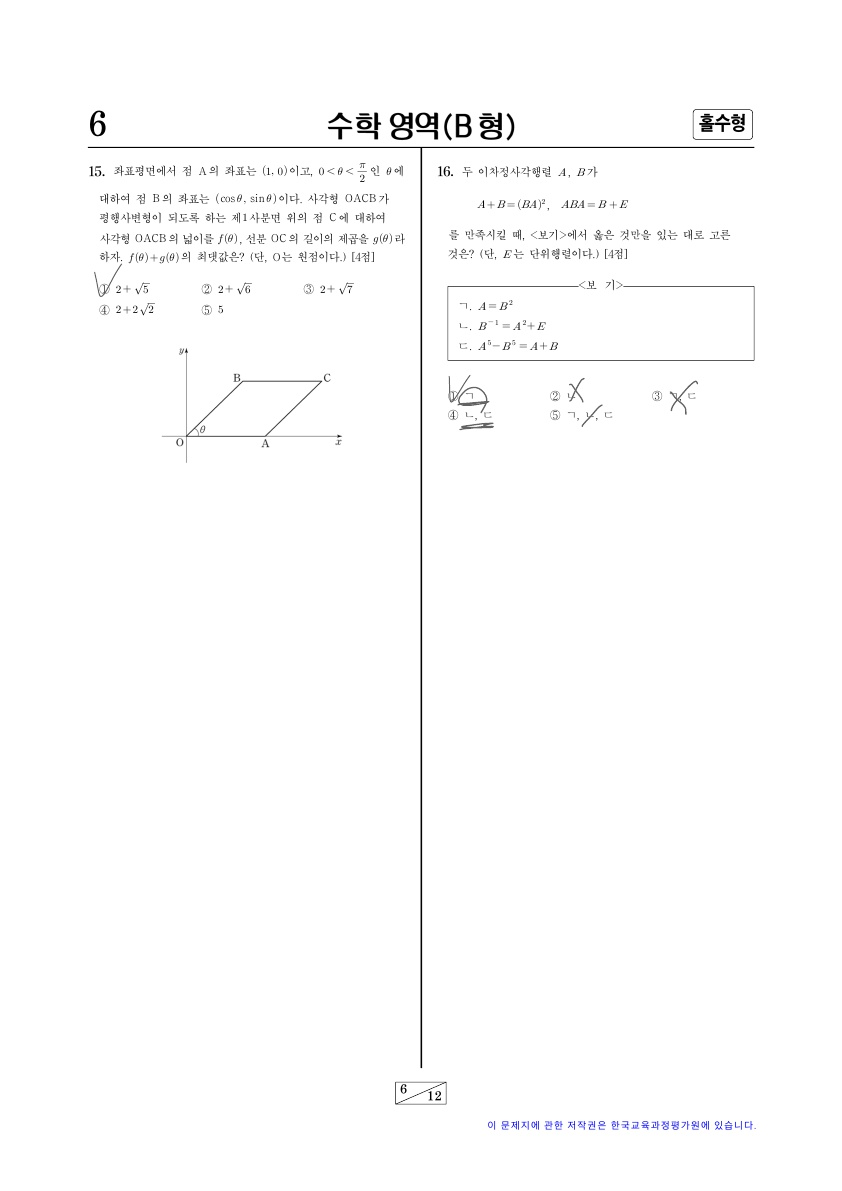question: (68, 153, 414, 477), (424, 151, 764, 439)
